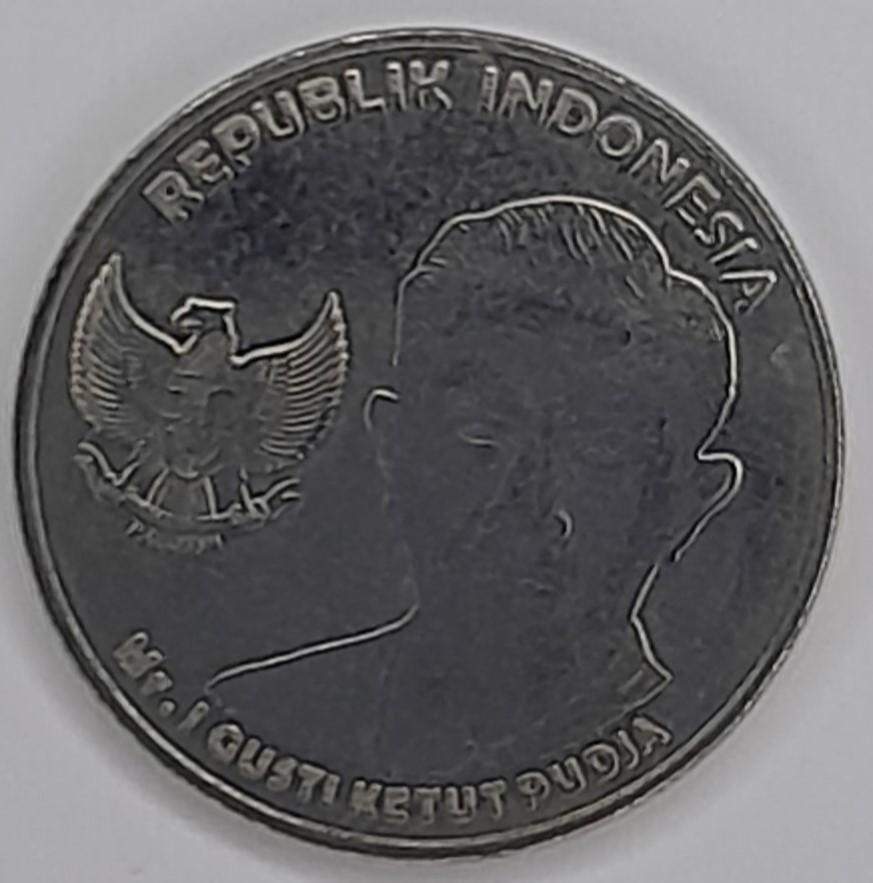coin_1000_e2016: (15, 17, 861, 883)
